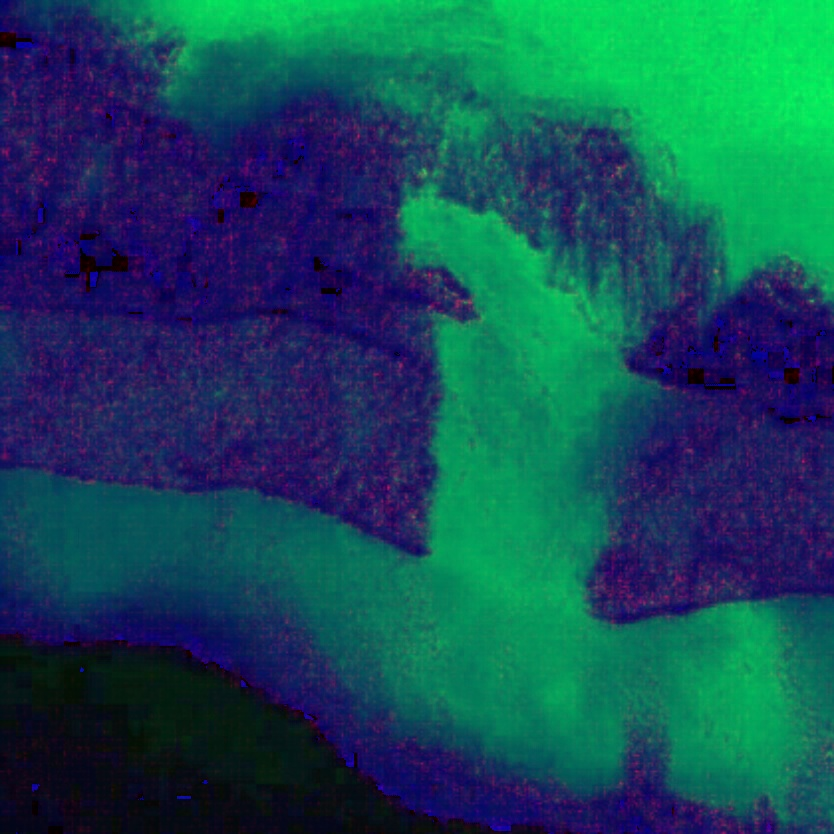rip_current: (325, 152, 711, 706)
